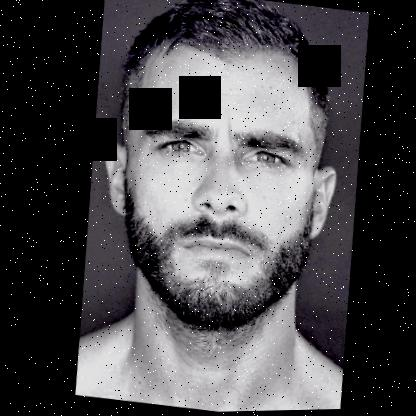Male: (74, 27, 355, 345)
